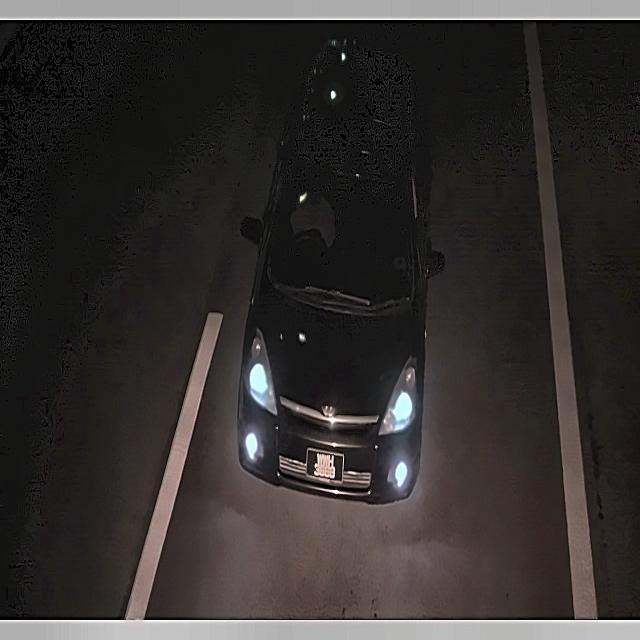car: (300, 441, 348, 488)
